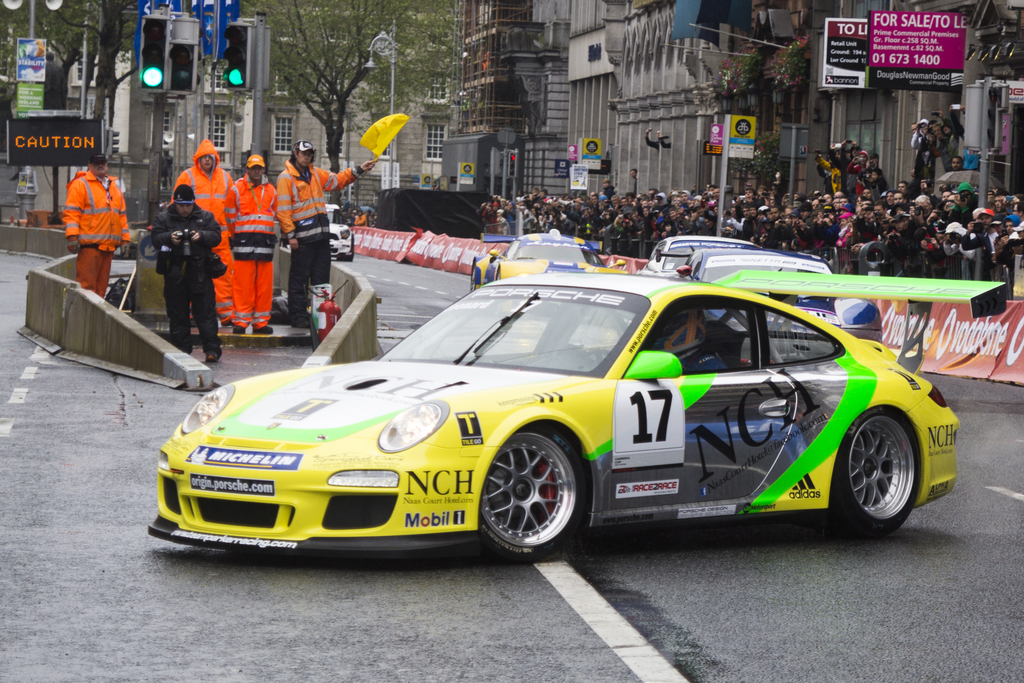car: (110, 255, 1012, 595), (454, 216, 627, 287)
